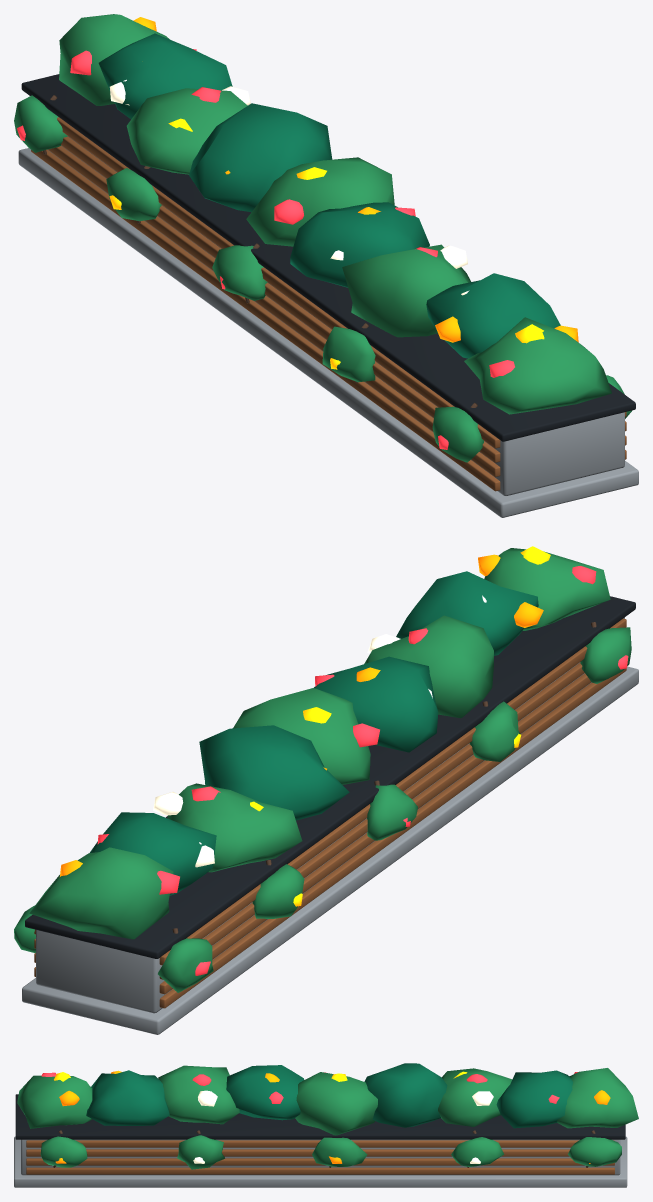
File: roadside_flower_planter.glb
3 views of the same model, one above another, from view 1: azimuth 30°, elevation 25°; view 2: azimuth 150°, elevation 25°; view 3: azimuth 270°, elevation 25° (orthographic). The views are drawn at different scales.
Parts seen in each view (by area): view 1: Planter_CopingRim, Planter_BasePlinth, Planter_Bush_5, Planter_Bush_0, Planter_StoneCore, Planter_Bush_2, Planter_Bush_3, Planter_Bush_4, Planter_Bush_1, Planter_Bush_6, Planter_Bush_7, Planter_TimberSlat_L_0 (+9 smaller); view 2: Planter_CopingRim, Planter_BasePlinth, Planter_Bush_5, Planter_Bush_8, Planter_StoneCore, Planter_Bush_3, Planter_Bush_2, Planter_Bush_6, Planter_Bush_4, Planter_Bush_1, Planter_TimberSlat_L_0, Planter_Bush_0 (+9 smaller); view 3: Planter_CopingRim, Planter_BasePlinth, Planter_StoneCore, Planter_TimberSlat_R_0, Planter_Bush_5, Planter_Bush_4, Planter_Bush_1, Planter_Bush_8, Planter_Bush_7, Planter_Bush_2, Planter_TimberSlat_R_1, Planter_Bush_3 (+12 smaller).
Boxes of the visible parts, bbox=[...] form: Planter_CopingRim: bbox=[21, 74, 635, 441]; Planter_BasePlinth: bbox=[18, 148, 638, 517]; Planter_Bush_5: bbox=[189, 103, 332, 212]; Planter_Bush_0: bbox=[464, 317, 611, 414]; Planter_StoneCore: bbox=[47, 136, 624, 495]; Planter_Bush_2: bbox=[342, 244, 470, 337]; Planter_Bush_3: bbox=[290, 202, 429, 287]; Planter_Bush_4: bbox=[246, 157, 394, 246]; Planter_Bush_1: bbox=[426, 273, 560, 358]; Planter_Bush_6: bbox=[126, 88, 247, 174]; Planter_Bush_7: bbox=[98, 33, 232, 119]; Planter_TimberSlat_L_0: bbox=[31, 149, 500, 491]; Planter_CopingRim: bbox=[25, 596, 635, 958]; Planter_BasePlinth: bbox=[22, 666, 638, 1034]; Planter_Bush_5: bbox=[199, 725, 349, 820]; Planter_Bush_8: bbox=[29, 847, 173, 939]; Planter_StoneCore: bbox=[36, 617, 624, 1013]; Planter_Bush_3: bbox=[314, 656, 438, 752]; Planter_Bush_2: bbox=[364, 615, 493, 718]; Planter_Bush_6: bbox=[167, 783, 302, 872]; Planter_Bush_4: bbox=[233, 688, 370, 784]; Planter_Bush_1: bbox=[396, 571, 538, 655]; Planter_TimberSlat_L_0: bbox=[159, 668, 626, 1008]; Planter_Bush_0: bbox=[484, 548, 610, 630]; Planter_CopingRim: bbox=[15, 1094, 625, 1139]; Planter_BasePlinth: bbox=[14, 1136, 627, 1187]; Planter_StoneCore: bbox=[21, 1139, 620, 1175]; Planter_TimberSlat_R_0: bbox=[26, 1167, 614, 1174]; Planter_Bush_5: bbox=[364, 1063, 447, 1127]; Planter_Bush_4: bbox=[295, 1072, 377, 1135]; Planter_Bush_1: bbox=[86, 1070, 169, 1125]; Planter_Bush_8: bbox=[557, 1068, 638, 1128]; Planter_Bush_7: bbox=[496, 1070, 572, 1128]; Planter_Bush_2: bbox=[158, 1065, 239, 1124]; Planter_TimberSlat_R_1: bbox=[26, 1158, 614, 1165]; Planter_Bush_3: bbox=[226, 1065, 304, 1120].
Size of the model in its own units: 1.79 by 1.45 by 8.15.
